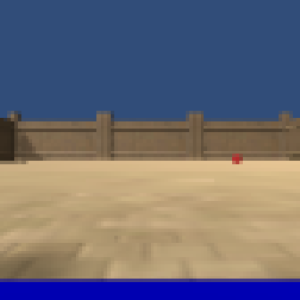badGoal: (230, 151, 246, 167)
platform: (1, 277, 300, 299)
